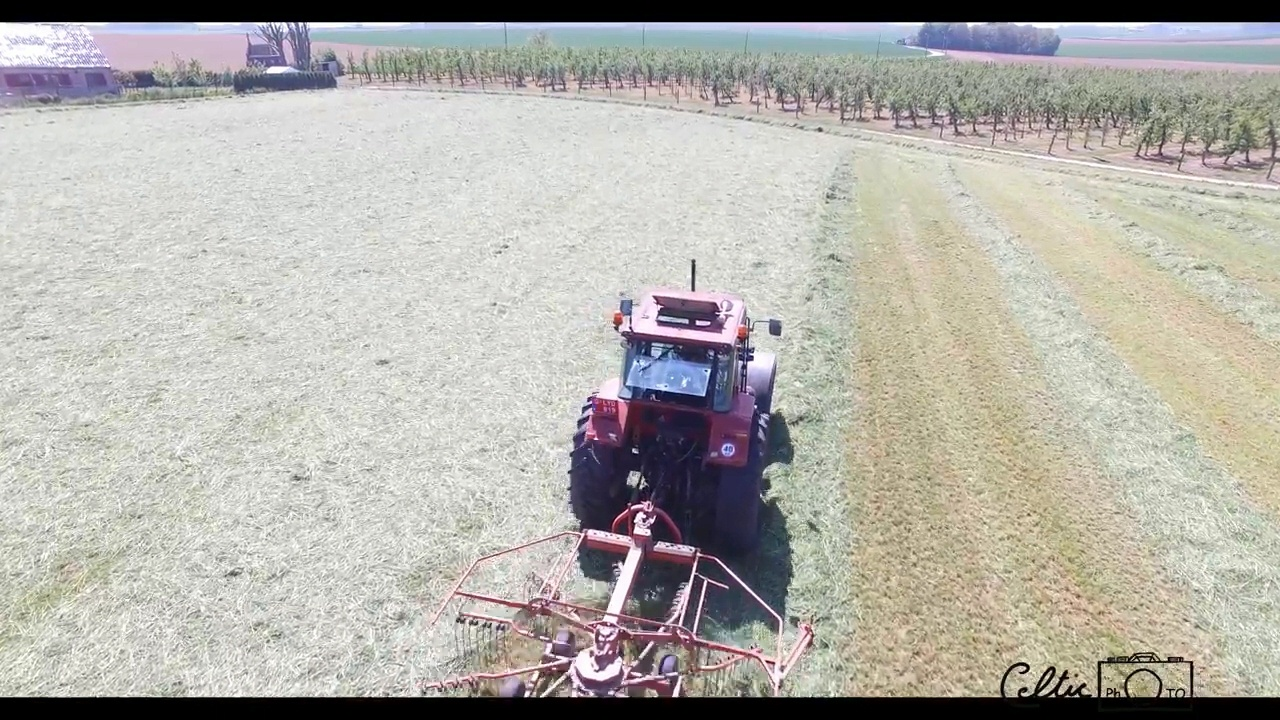traktor: (568, 255, 782, 552)
